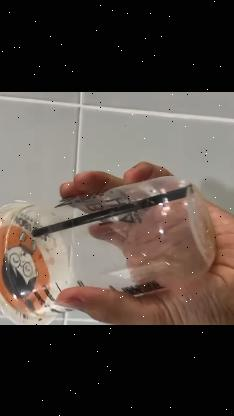Others: (0, 172, 218, 319)
